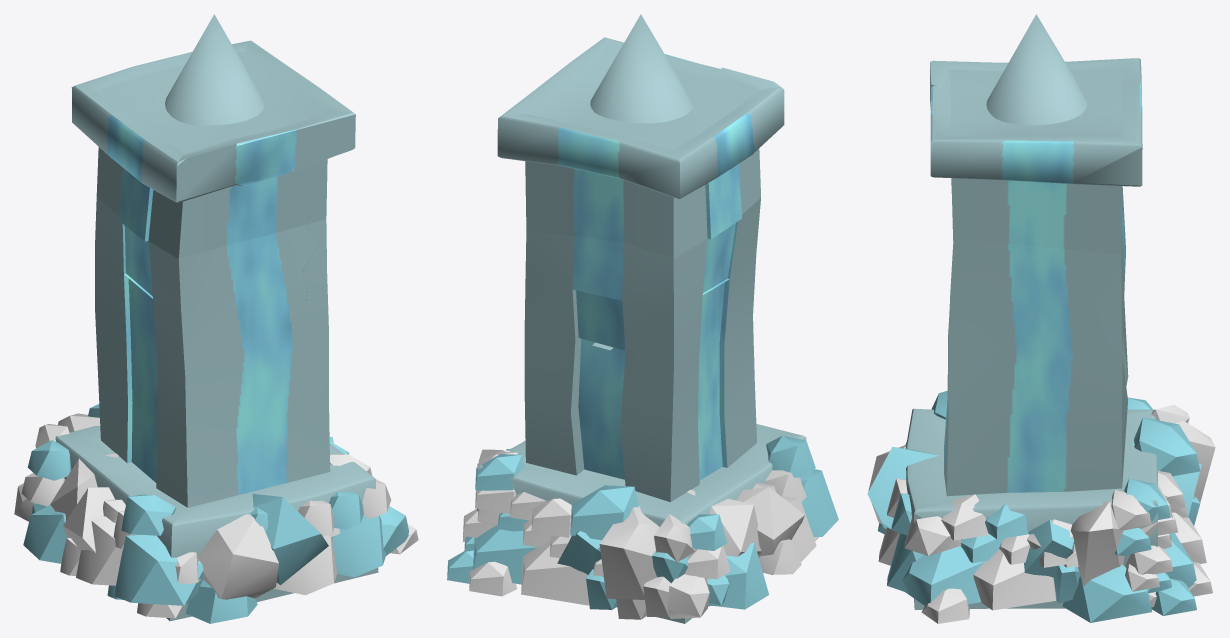
Rendered from FINAL-Ice-Tower2.fbx.
The picture shows the model from 3 angles, left to right: view 1: azimuth 30°, elevation 25°; view 2: azimuth 150°, elevation 25°; view 3: azimuth 270°, elevation 25°; orthographic projection.
Visible parts, largest first — view 1: Cube, Icosphere.052, Icosphere.057, Icosphere.051, Icosphere.045, Icosphere.062, Icosphere.055, Icosphere.063, Icosphere.043, Icosphere.065, Icosphere.050, Icosphere.064 (+9 smaller); view 2: Cube, Icosphere.018, Icosphere.016, Icosphere.007, Icosphere.063, Icosphere.055, Icosphere.001, Icosphere.064, Icosphere.057, Icosphere.028, Icosphere.065, Icosphere.073 (+16 smaller); view 3: Cube, Icosphere.034, Icosphere.013, Icosphere.029, Icosphere.036, Icosphere.007, Icosphere.051, Icosphere.035, Icosphere.074, Icosphere.040, Icosphere.030, Icosphere.070 (+20 smaller).
Boxes of the visible parts, x1,y1,x2,y2 form: Cube: (55, 14, 378, 621); Icosphere.052: (197, 514, 278, 599); Icosphere.057: (114, 534, 203, 605); Icosphere.051: (252, 494, 328, 584); Icosphere.045: (332, 515, 386, 577); Icosphere.062: (76, 516, 122, 585); Icosphere.055: (23, 505, 66, 563); Icosphere.063: (63, 487, 115, 552); Icosphere.043: (185, 580, 257, 623); Icosphere.065: (121, 494, 175, 535); Icosphere.050: (274, 535, 337, 595); Icosphere.064: (50, 453, 118, 520); Cube: (476, 14, 806, 623); Icosphere.018: (599, 505, 659, 599); Icosphere.016: (521, 541, 589, 605); Icosphere.007: (570, 485, 638, 540); Icosphere.063: (736, 487, 804, 574); Icosphere.055: (715, 542, 768, 609); Icosphere.001: (473, 525, 536, 584); Icosphere.064: (687, 490, 761, 556); Icosphere.057: (800, 469, 838, 536); Icosphere.028: (667, 574, 709, 618); Icosphere.065: (766, 435, 815, 477); Icosphere.073: (475, 454, 524, 490); Cube: (906, 14, 1157, 609); Icosphere.034: (973, 549, 1056, 610); Icosphere.013: (1062, 564, 1151, 622); Icosphere.029: (902, 546, 984, 606); Icosphere.036: (1070, 501, 1124, 586); Icosphere.007: (1134, 417, 1200, 476); Icosphere.051: (867, 447, 938, 529); Icosphere.035: (1024, 520, 1074, 580); Icosphere.074: (904, 515, 961, 556); Icosphere.040: (941, 494, 989, 540); Icosphere.030: (921, 588, 969, 623); Icosphere.070: (1111, 489, 1151, 530).
Size of the model in its own units: 295 by 495 by 286.
Materials: 3 (1 with a texture image).
